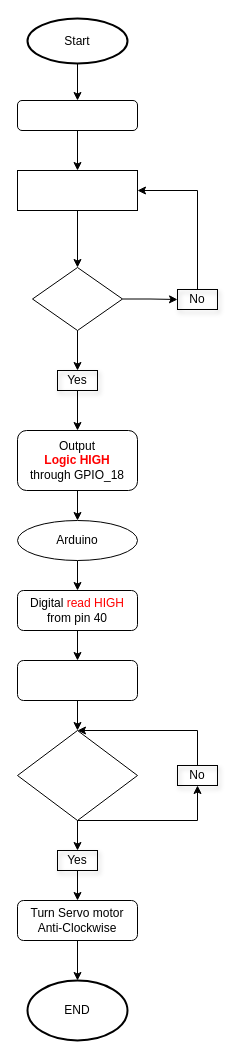
This 241x1058 diagram has some shape labels left out. The centre of each missing label's shape, as x and y in pixels:
"Correct?" belongs at pixel 77 298.
"Input security number" belongs at pixel 77 190.
"Pressure sensor value equals 100 ?" belongs at pixel 77 775.
"Raspberry Pi" belongs at pixel 77 115.
"Turn Servo motor Clockwise" belongs at pixel 77 680.
